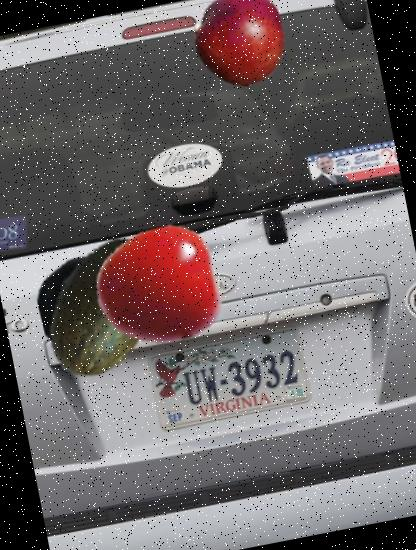Blueberry: (30, 245, 145, 360)
Melon: (17, 220, 192, 394)
Nectarine: (183, 0, 294, 94)
Tomato: (83, 213, 232, 361)
